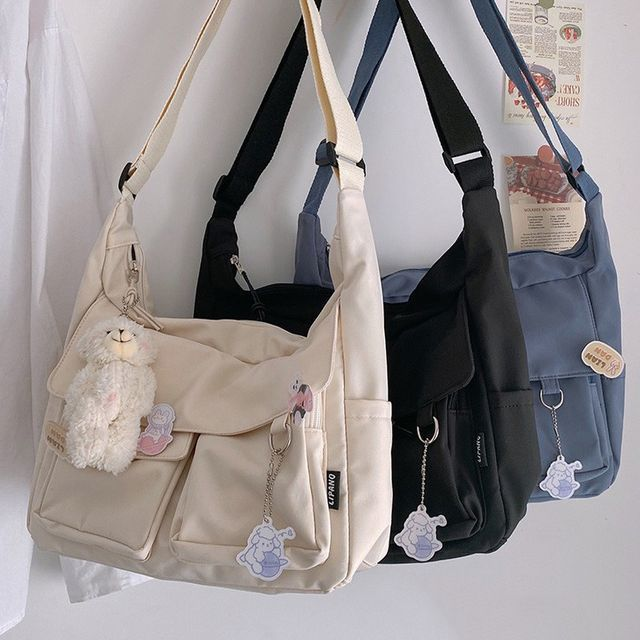nylon: (28, 1, 626, 598)
